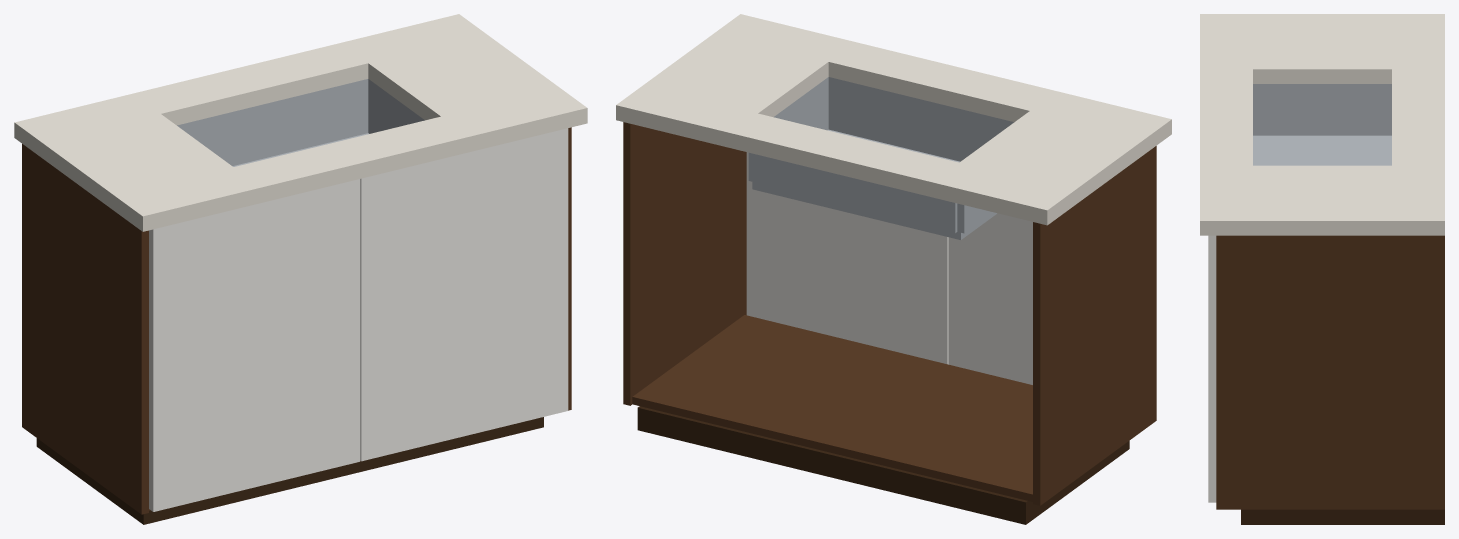
File: kitchensink-lite.glb
3 renders of one model, left to right at view 1: azimuth 30°, elevation 25°; view 2: azimuth 150°, elevation 25°; view 3: azimuth 270°, elevation 25°, orthographic. The views are drawn at different scales.
Parts seen in each view (by area): view 1: material-1-door, material-0-top, material-2-body, material-6-sink, material-4-base; view 2: material-2-body, material-0-top, material-1-door, material-6-sink, material-4-base; view 3: material-2-body, material-0-top, material-6-sink, material-4-base, material-1-door.
Part boxes in pixels (x1,y1,x2,y2): material-1-door: [149, 128, 568, 511]; material-0-top: [14, 14, 587, 231]; material-2-body: [22, 127, 571, 514]; material-6-sink: [177, 79, 424, 166]; material-4-base: [36, 417, 543, 524]; material-2-body: [623, 122, 1156, 505]; material-0-top: [616, 14, 1171, 225]; material-1-door: [746, 152, 1032, 384]; material-6-sink: [748, 77, 1014, 239]; material-4-base: [637, 406, 1129, 524]; material-2-body: [1216, 235, 1444, 509]; material-0-top: [1200, 14, 1444, 235]; material-6-sink: [1253, 84, 1391, 165]; material-4-base: [1241, 509, 1444, 524]; material-1-door: [1208, 235, 1216, 502].
Size of the model in its own units: 1.2 by 0.85 by 0.6.
